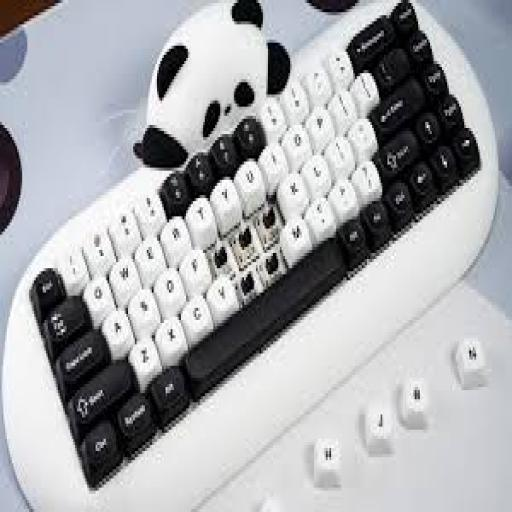KEYBOARD-2: (22, 2, 492, 500)
